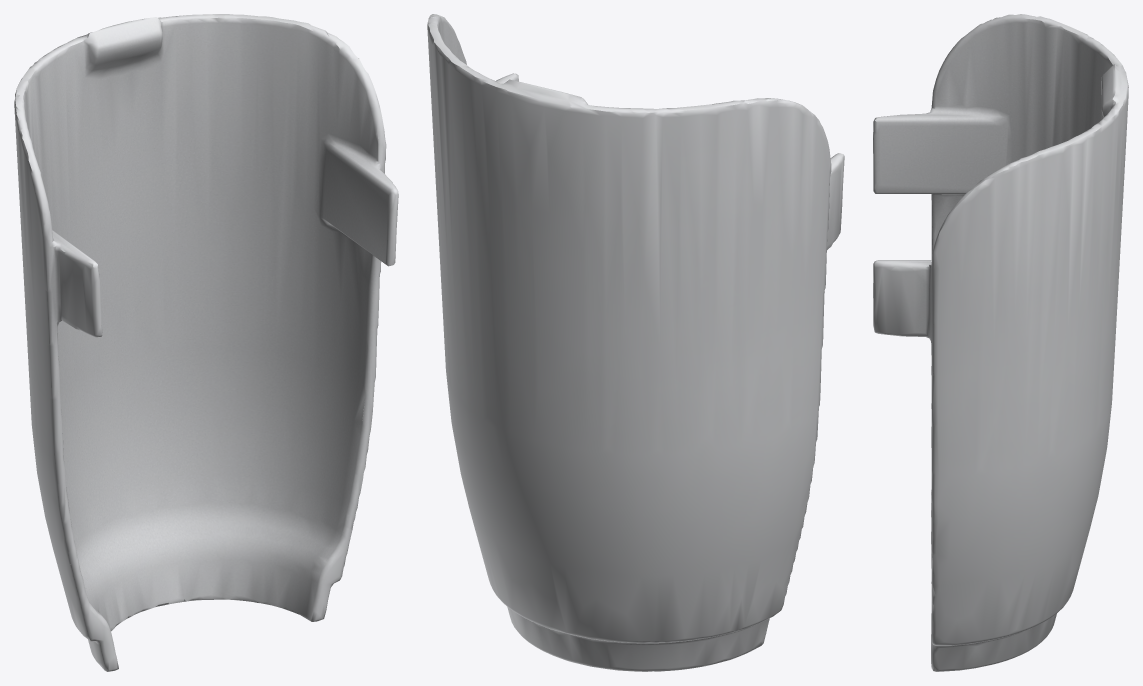
The model's file is left_forarm_cover.glb.
The picture shows the model from 3 angles, left to right: view 1: azimuth 30°, elevation 25°; view 2: azimuth 150°, elevation 25°; view 3: azimuth 270°, elevation 25°; orthographic projection. The views are drawn at different scales.
Parts seen in each view (by area): view 1: left_forarm_cover; view 2: left_forarm_cover; view 3: left_forarm_cover.
Boxes of the visible parts, x1,y1,x2,y2 form: left_forarm_cover: (14,14,398,671); left_forarm_cover: (427,14,844,671); left_forarm_cover: (873,14,1128,671).
Size of the model in its own units: 0.0704 by 0.1086 by 0.0464.
1 material, 1 textured.
